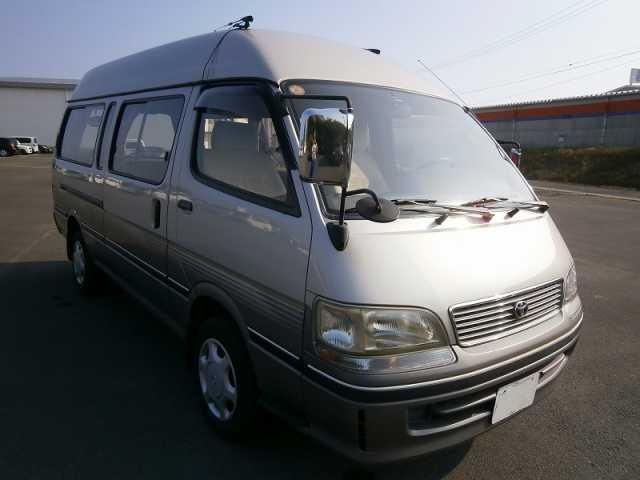van: (51, 9, 583, 445)
